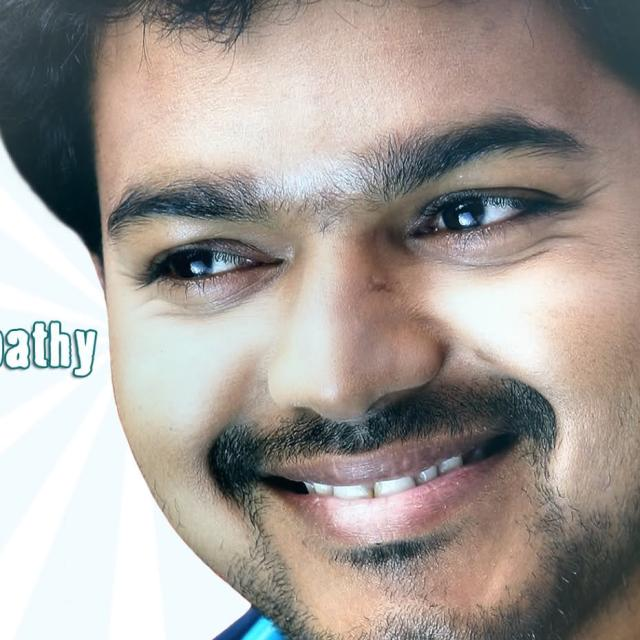Normal: (102, 0, 639, 639)
